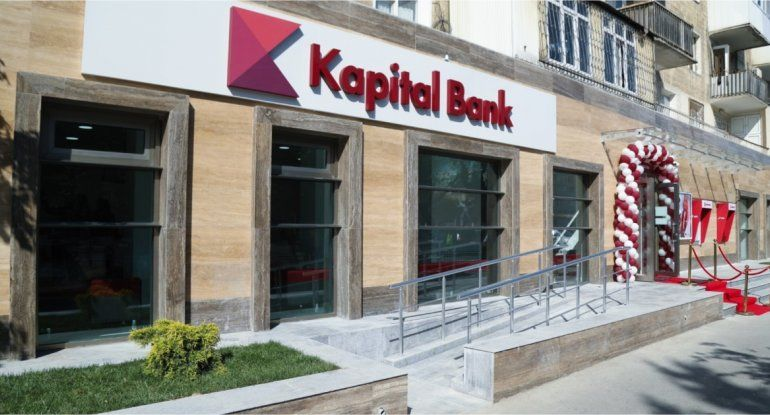Kapital Bank: (224, 5, 303, 101)
